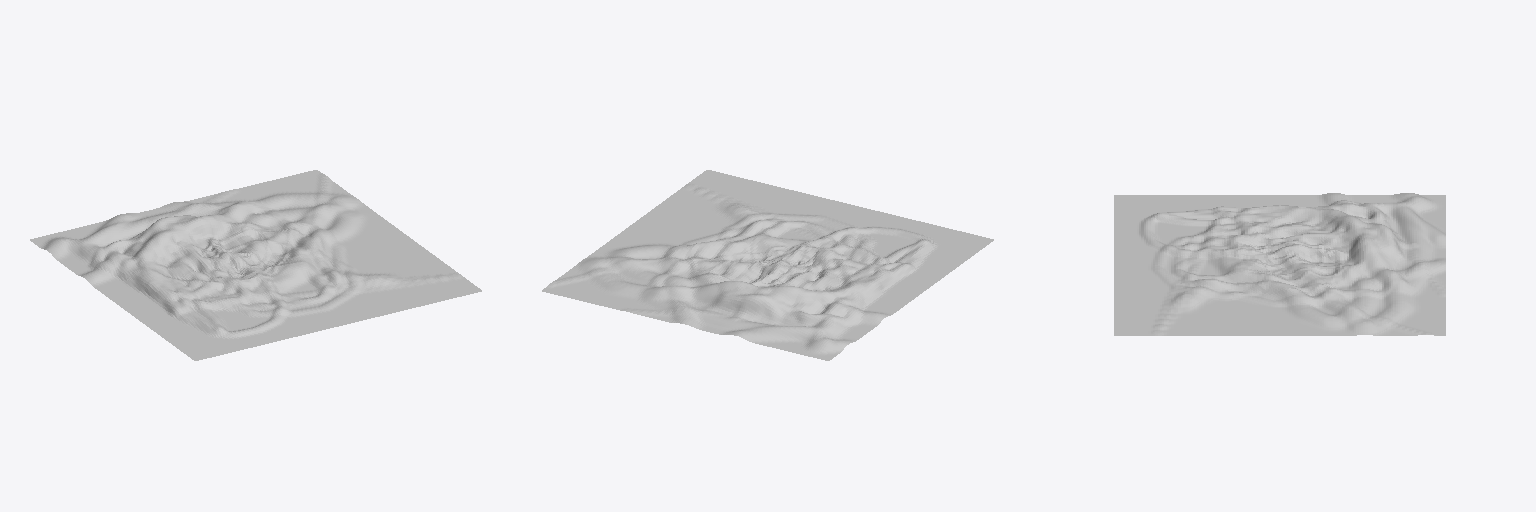
Rendered from world1.obj.
3 renders of one model, left to right at view 1: azimuth 30°, elevation 25°; view 2: azimuth 150°, elevation 25°; view 3: azimuth 270°, elevation 25°, orthographic.
Visible parts, largest first — view 1: Grid; view 2: Grid; view 3: Grid.
Boxes of the visible parts, x1=… form: Grid: x1=30, y1=170, x2=481, y2=360; Grid: x1=542, y1=170, x2=993, y2=360; Grid: x1=1114, y1=193, x2=1445, y2=335.
Bounding box in the file's own units: 200 × 12.55 × 200.